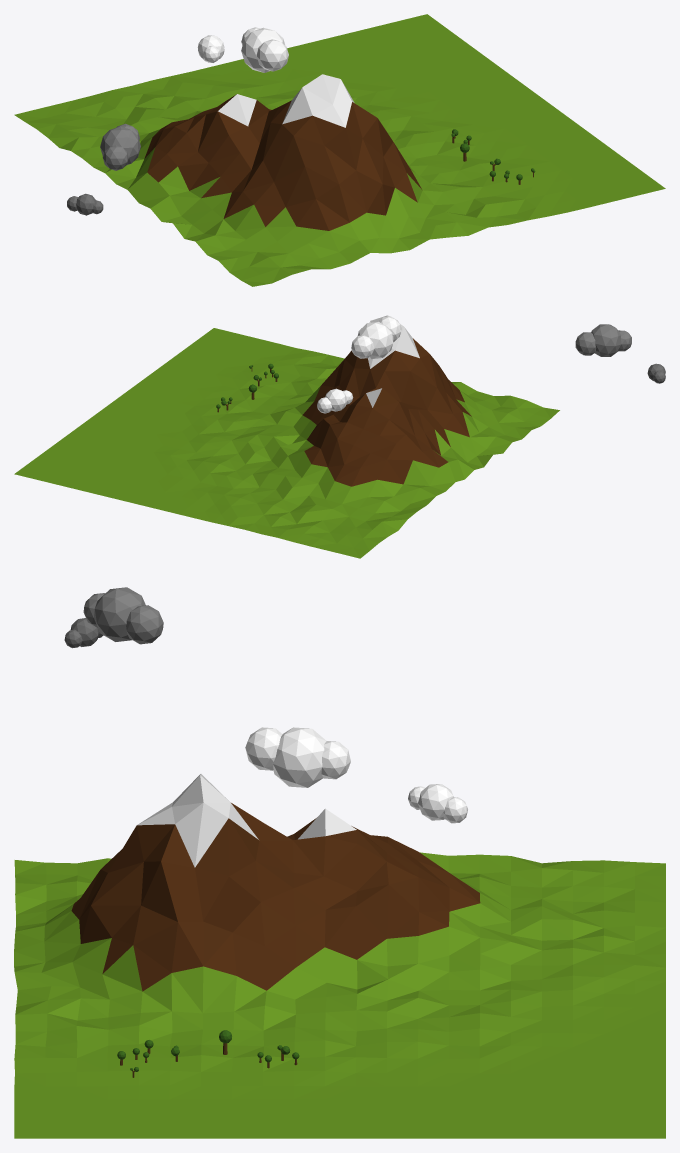
Rendered from 미륵산배경.glb.
3 views of the same model, one above another, from view 1: azimuth 30°, elevation 25°; view 2: azimuth 150°, elevation 25°; view 3: azimuth 270°, elevation 25° (orthographic). The views are drawn at different scales.
Parts seen in each view (by area): view 1: Plane; view 2: Plane; view 3: Plane.
Boxes of the visible parts, x1,y1,x2,y2 form: Plane: (14,14,665,286); Plane: (14,315,665,558); Plane: (14,587,665,1138).
Size of the model in its own units: 19.3 by 5.04 by 14.05.
